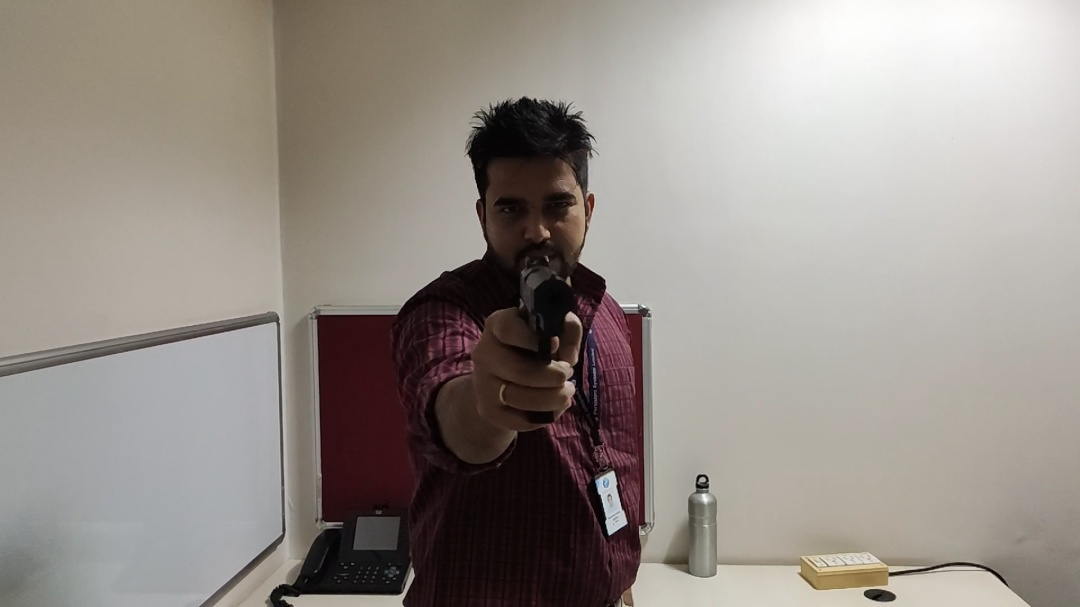gun: (511, 249, 601, 431)
